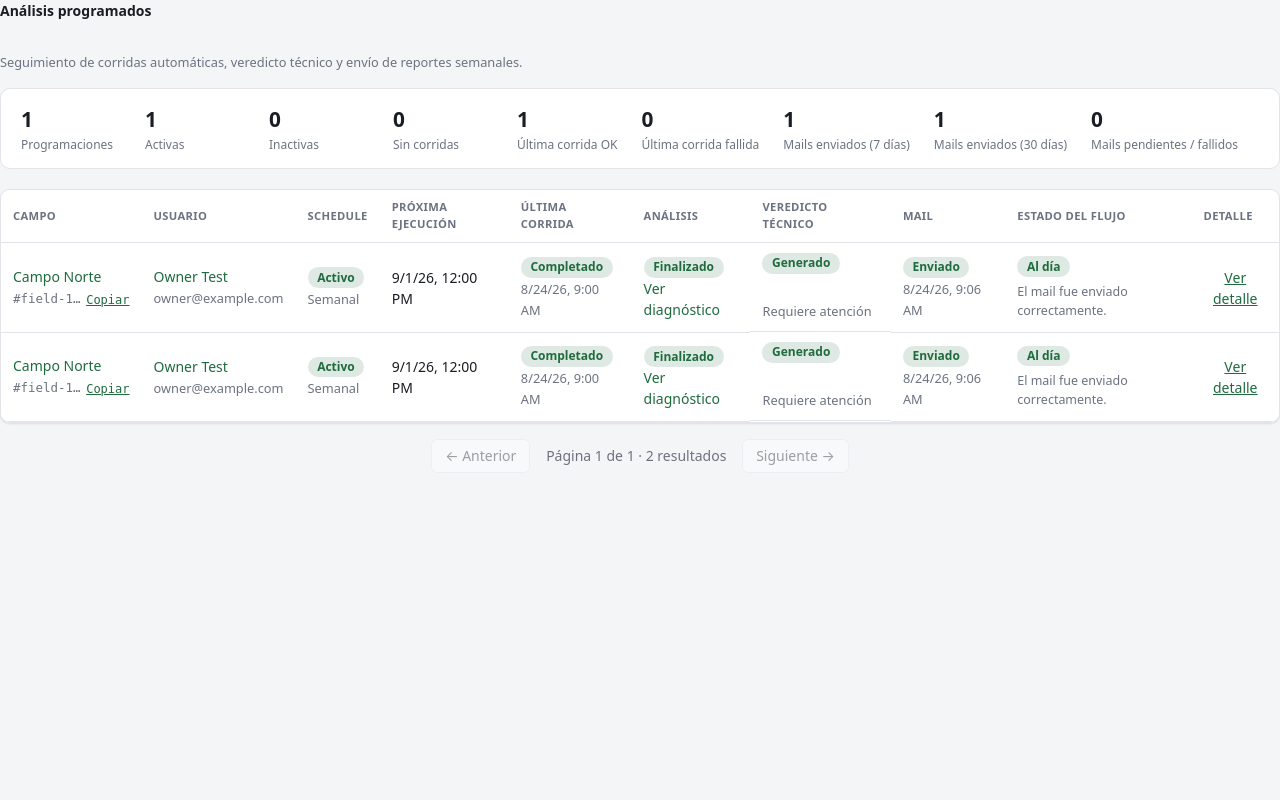
ScheduledAnalysisComponent (PR 13B) › el toggle "Ver detalle" expande y colapsa de forma independiente por fila
The image size is (1280, 800).
Click the 1st button "Ver detalle" at point(1235, 288), box [1204,266,1267,308]
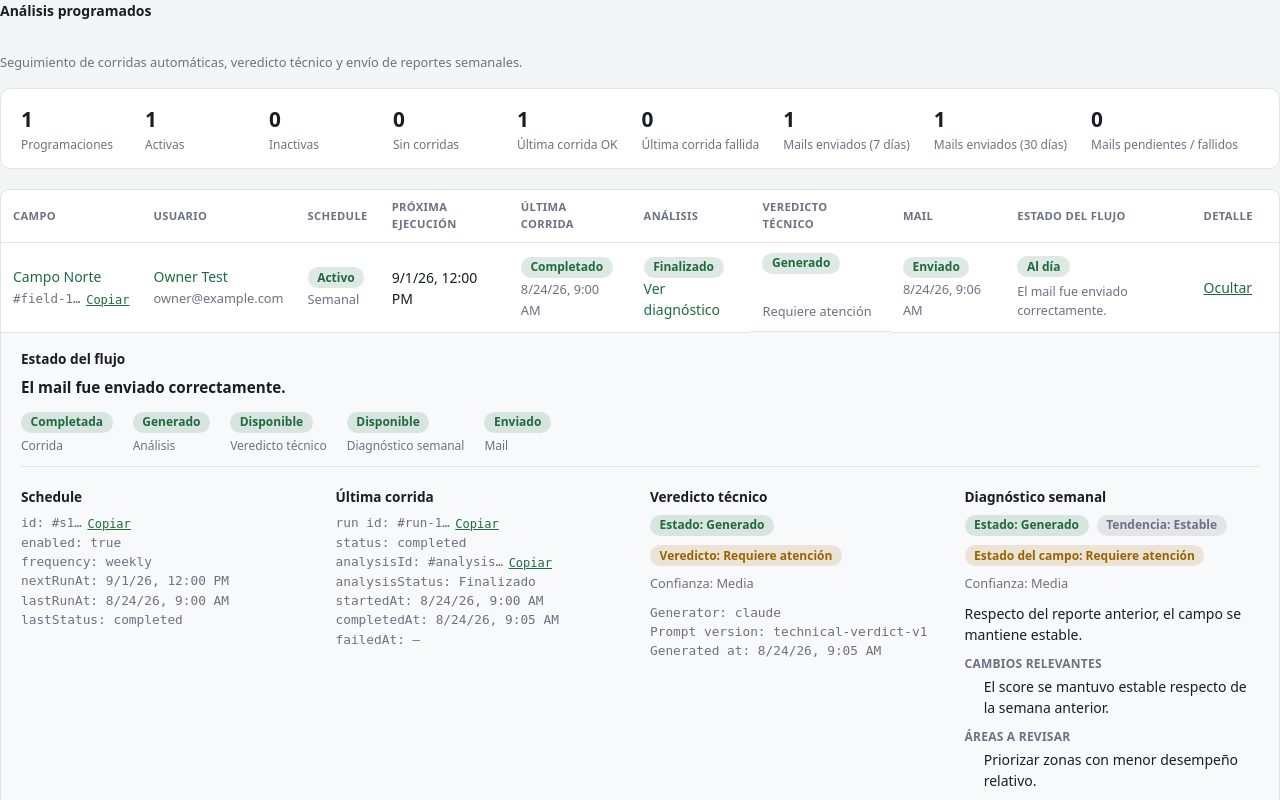
Expected: the button "Ocultar" is shown, [1204,277,1252,298]
